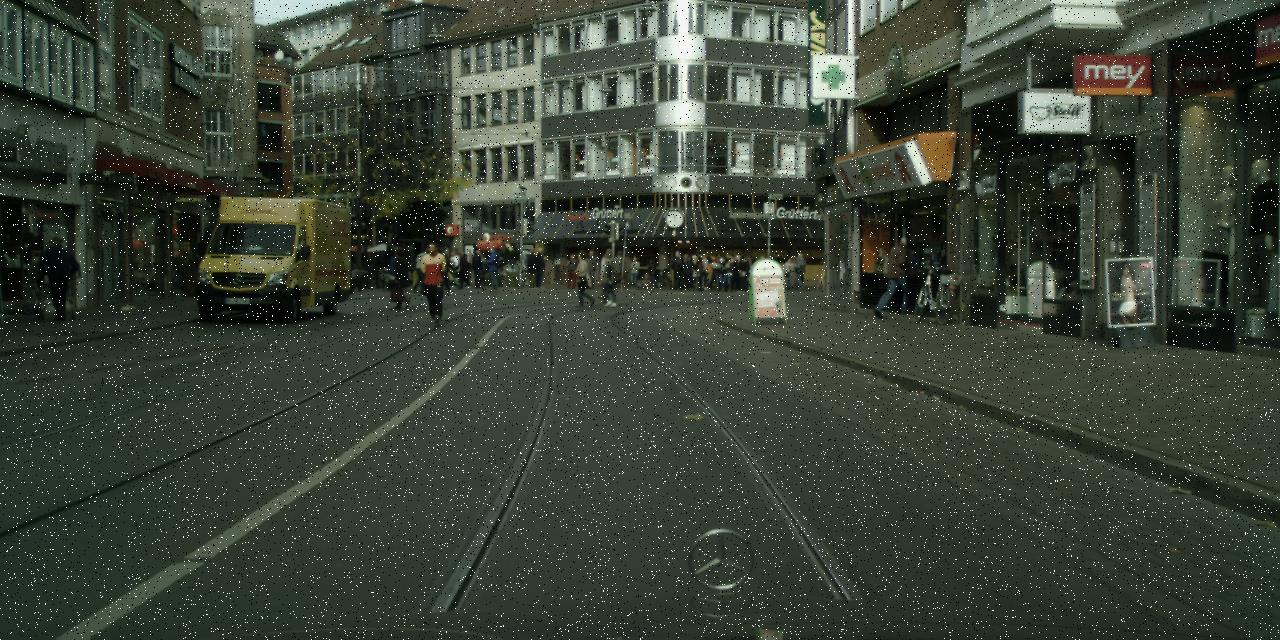ped: (671, 251, 751, 291), (41, 236, 75, 320), (417, 242, 450, 323), (883, 237, 915, 316), (190, 236, 216, 297), (388, 247, 413, 307), (596, 248, 618, 304), (572, 250, 594, 306), (598, 252, 618, 306), (445, 252, 471, 290), (783, 253, 806, 292), (415, 247, 433, 292), (484, 246, 502, 291), (387, 250, 405, 294), (530, 246, 548, 288), (524, 250, 540, 288), (583, 250, 598, 288), (612, 250, 627, 288), (470, 250, 484, 288), (564, 253, 578, 288), (627, 256, 640, 290), (648, 258, 659, 288)
